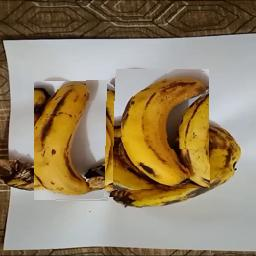Banana Semifresh: (116, 70, 209, 191), (34, 82, 108, 202), (87, 79, 147, 198), (117, 149, 232, 210)
